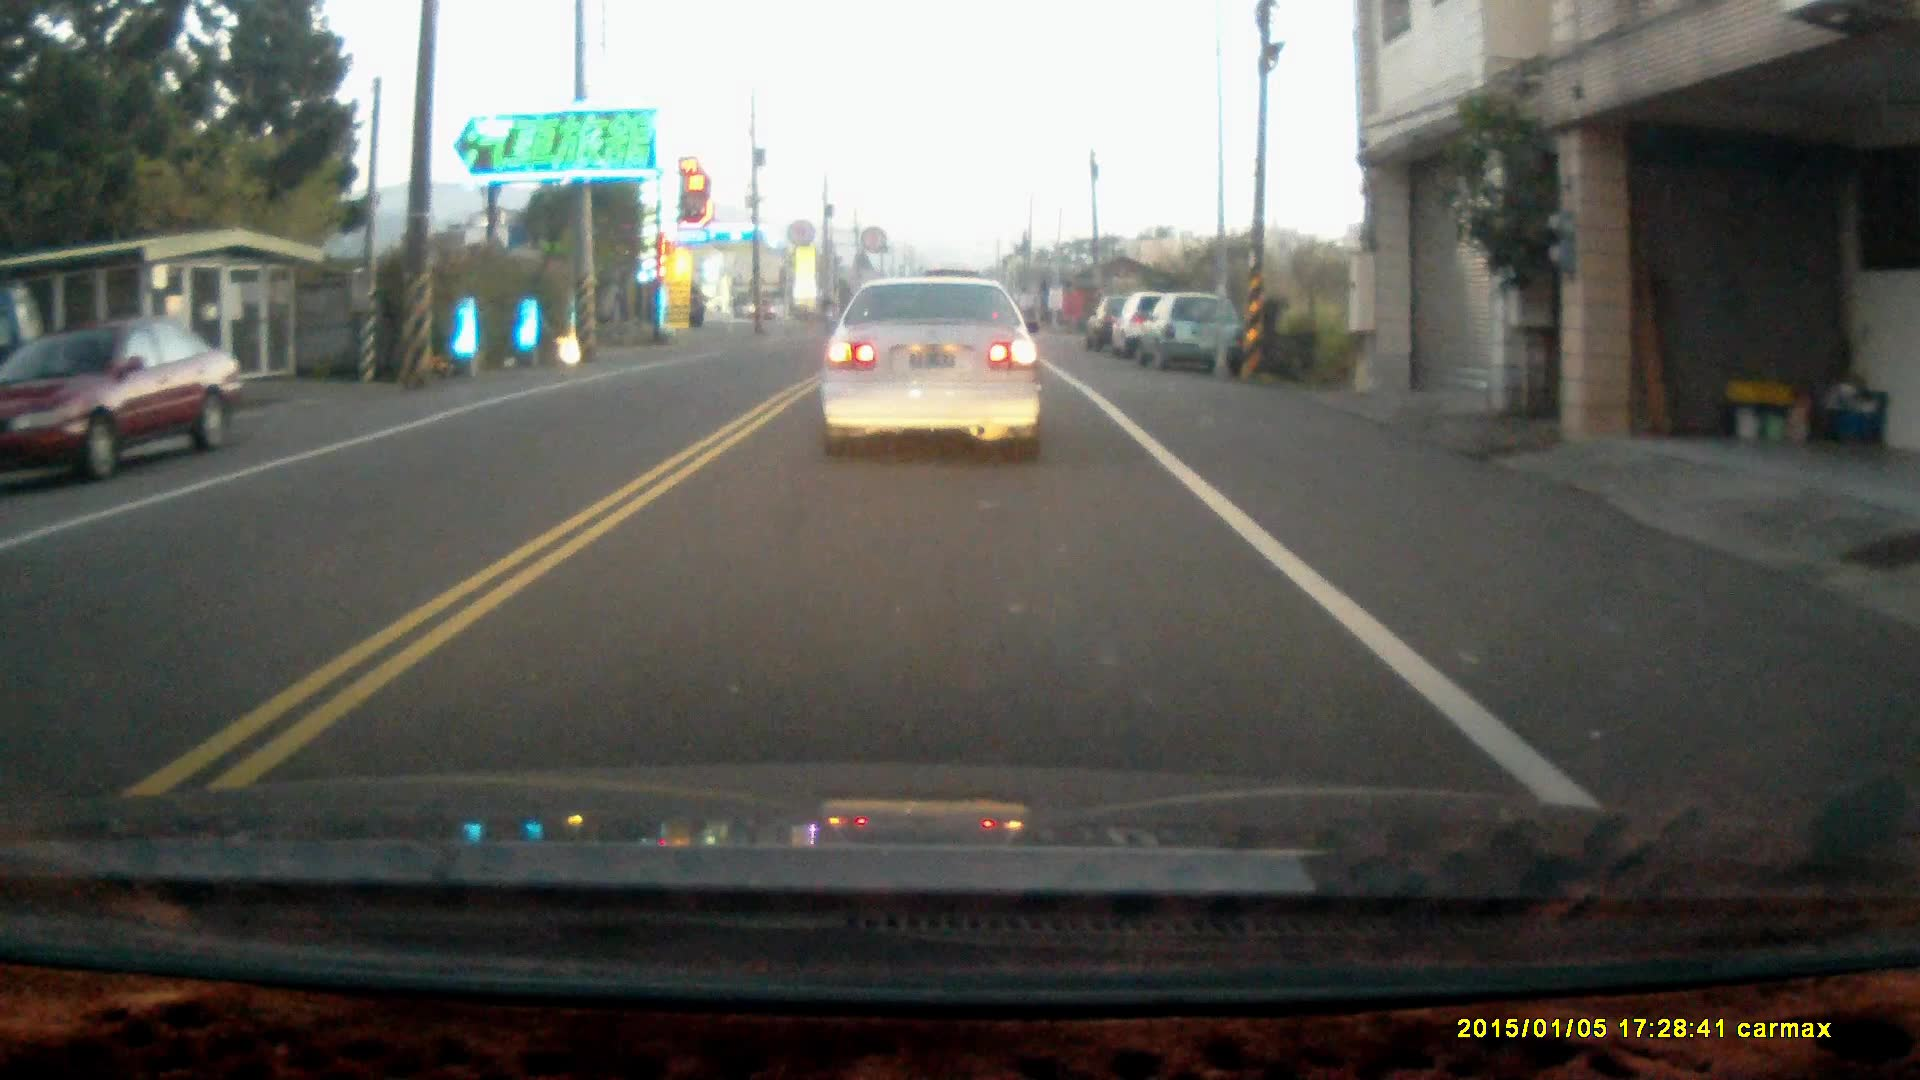vehicle: (818, 272, 1044, 462), (1, 316, 253, 485), (1137, 291, 1244, 375), (1116, 293, 1203, 360), (1085, 289, 1168, 355)
